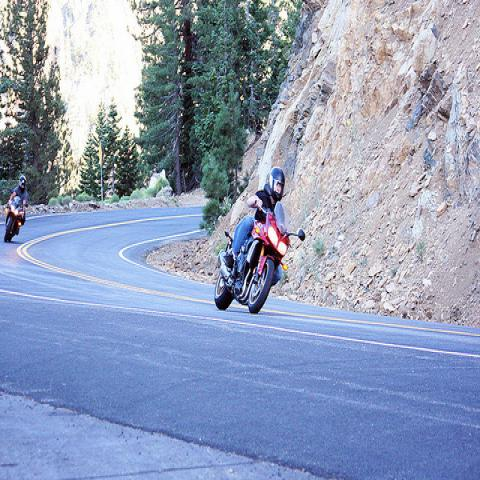motorcycle: (214, 199, 306, 314), (3, 188, 28, 242)
